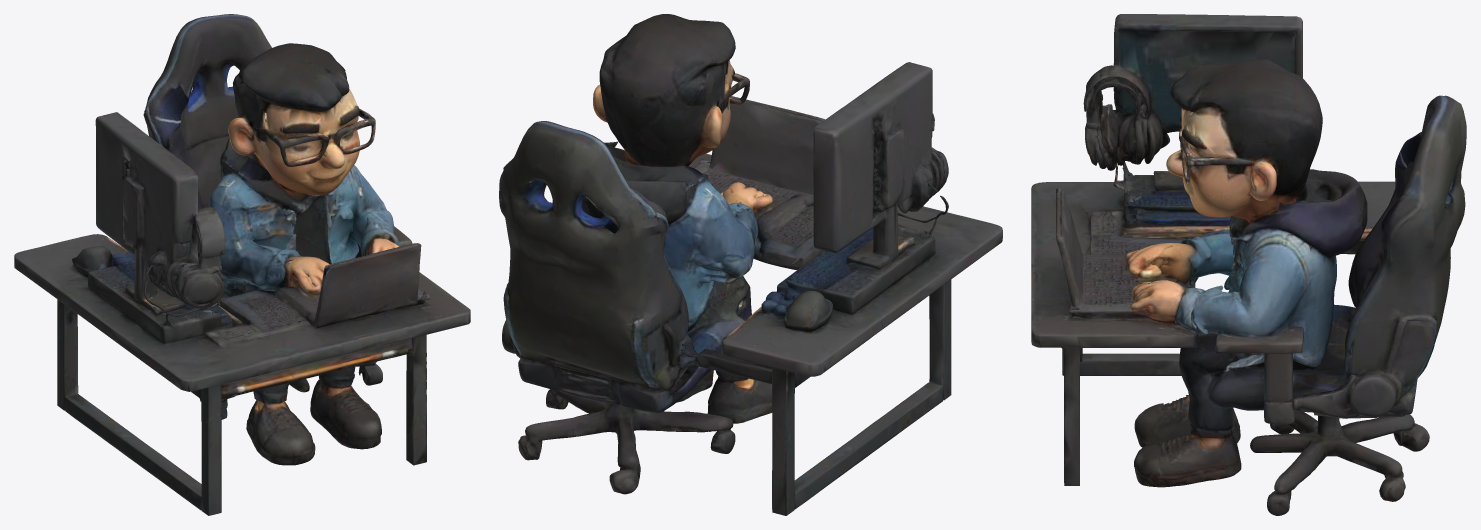
File: avatar-full.glb
The picture shows the model from 3 angles, left to right: view 1: azimuth 30°, elevation 25°; view 2: azimuth 150°, elevation 25°; view 3: azimuth 270°, elevation 25°; orthographic projection. The views are drawn at different scales.
Bounding box in the file's own units: 1.81 × 2 × 2.
Materials: 1 (1 with a texture image).
